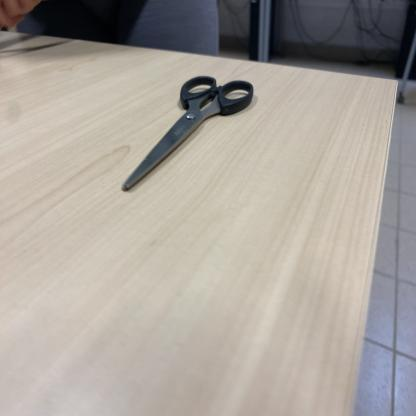scissors: (121, 75, 254, 194)
